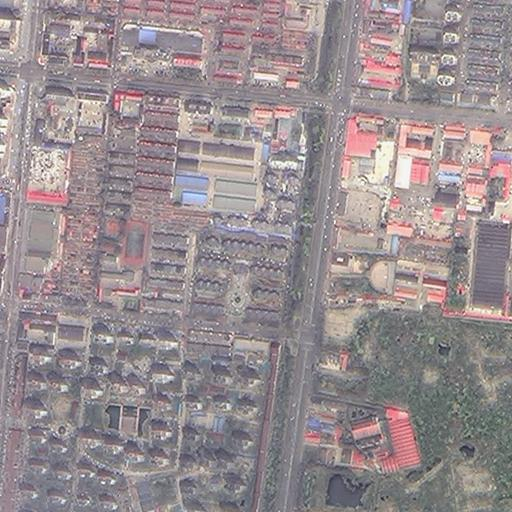school: (95, 219, 148, 308)
